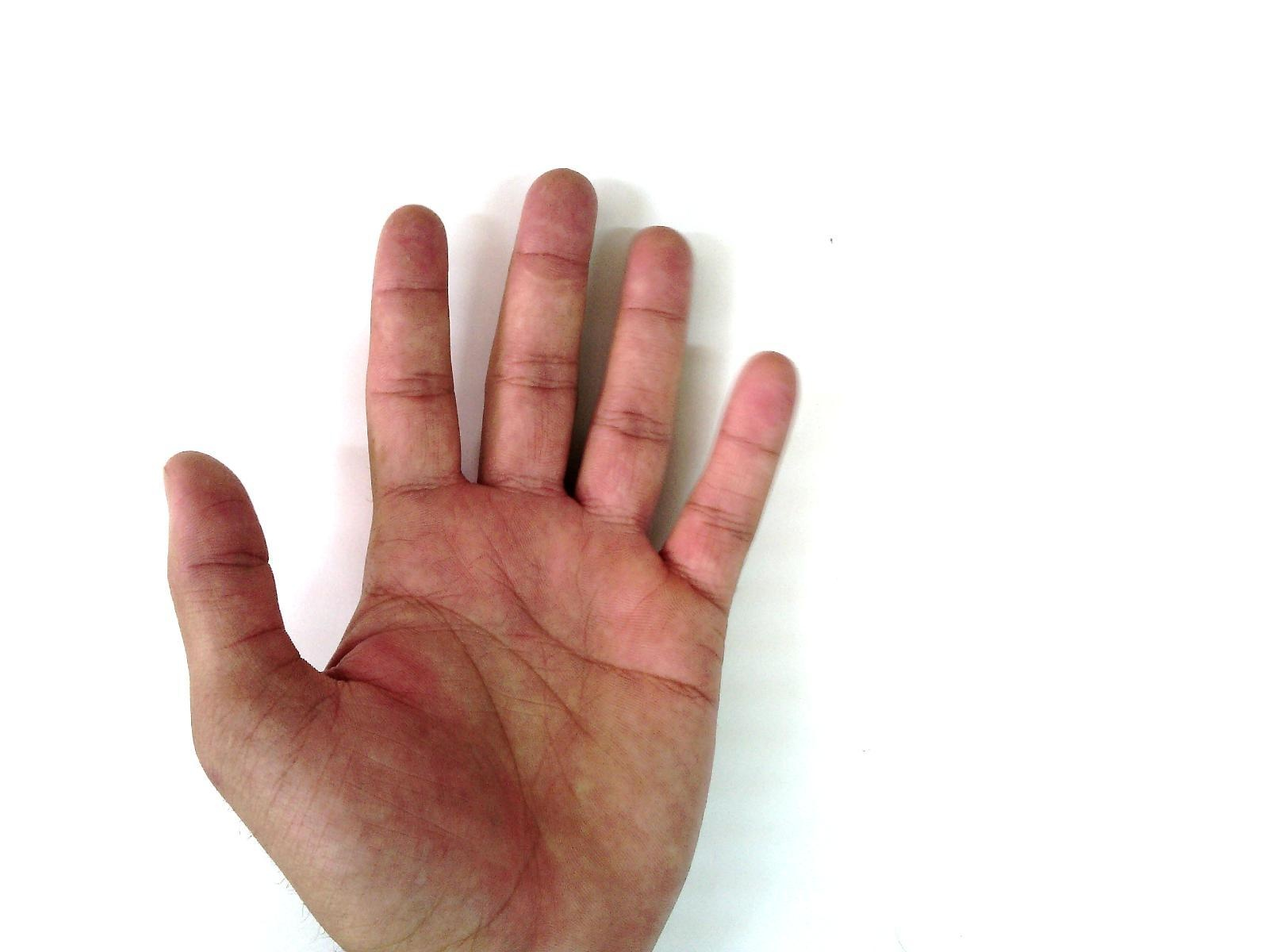open_palm: (160, 167, 803, 952)
